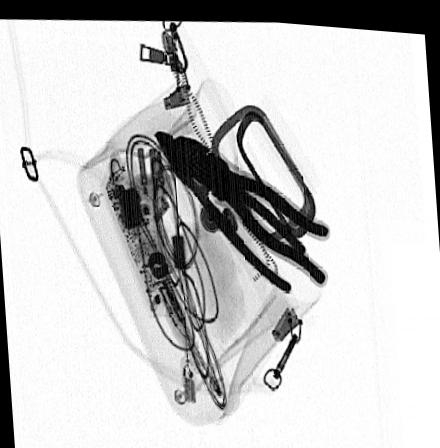Pliers: (169, 138, 330, 283), (164, 135, 307, 288)
